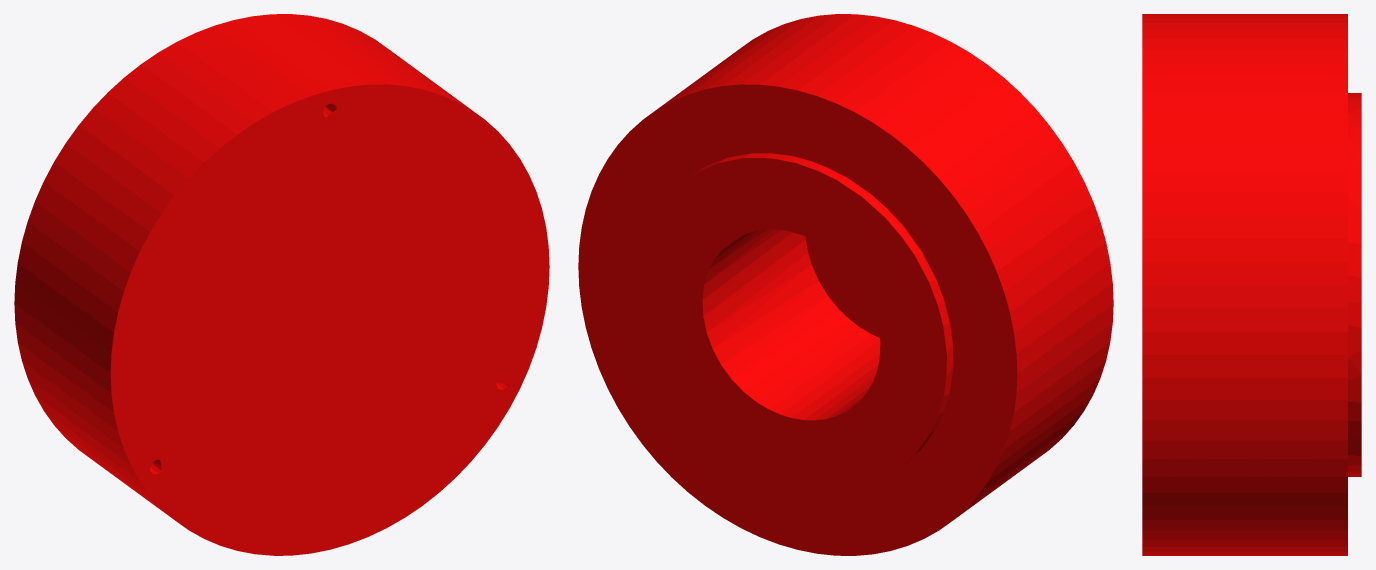
Rendered from right_arm_1_x6_1_outer_1.glb.
3 views of the same model, side by side, from view 1: azimuth 30°, elevation 25°; view 2: azimuth 150°, elevation 25°; view 3: azimuth 270°, elevation 25° (orthographic). The views are drawn at different scales.
Visible parts, largest first — view 1: right_arm_1_x6_1_outer_1.obj; view 2: right_arm_1_x6_1_outer_1.obj; view 3: right_arm_1_x6_1_outer_1.obj.
Part boxes in pixels (left/top/right/bottom): right_arm_1_x6_1_outer_1.obj: left=14, top=14, right=549, bottom=555; right_arm_1_x6_1_outer_1.obj: left=578, top=14, right=1113, bottom=555; right_arm_1_x6_1_outer_1.obj: left=1142, top=14, right=1361, bottom=555.
Size of the model in its own units: 0.079 by 0.079 by 0.032.
